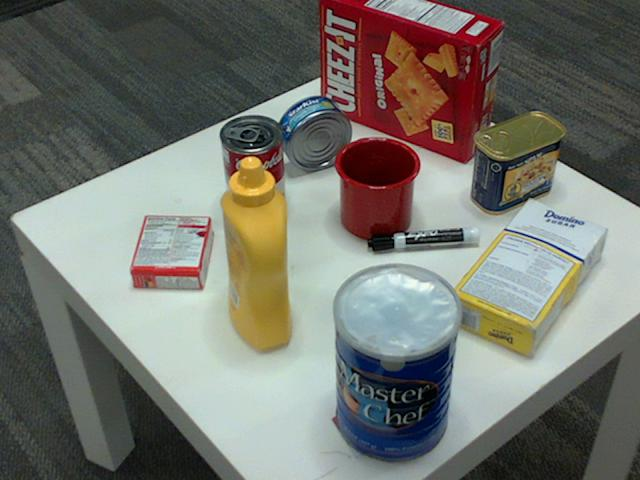cracker_box: (320, 0, 503, 162)
gelatin_box: (126, 212, 210, 286)
large_marker: (368, 231, 480, 251)
master_chef_can: (333, 266, 462, 465)
mug: (332, 135, 419, 239)
mustard_bottle: (218, 157, 290, 350)
potted_meat_can: (470, 113, 563, 215)
sugar_box: (444, 198, 605, 359)
tomato_soup_can: (219, 115, 284, 224)
tuna_fish_can: (275, 95, 351, 170)
